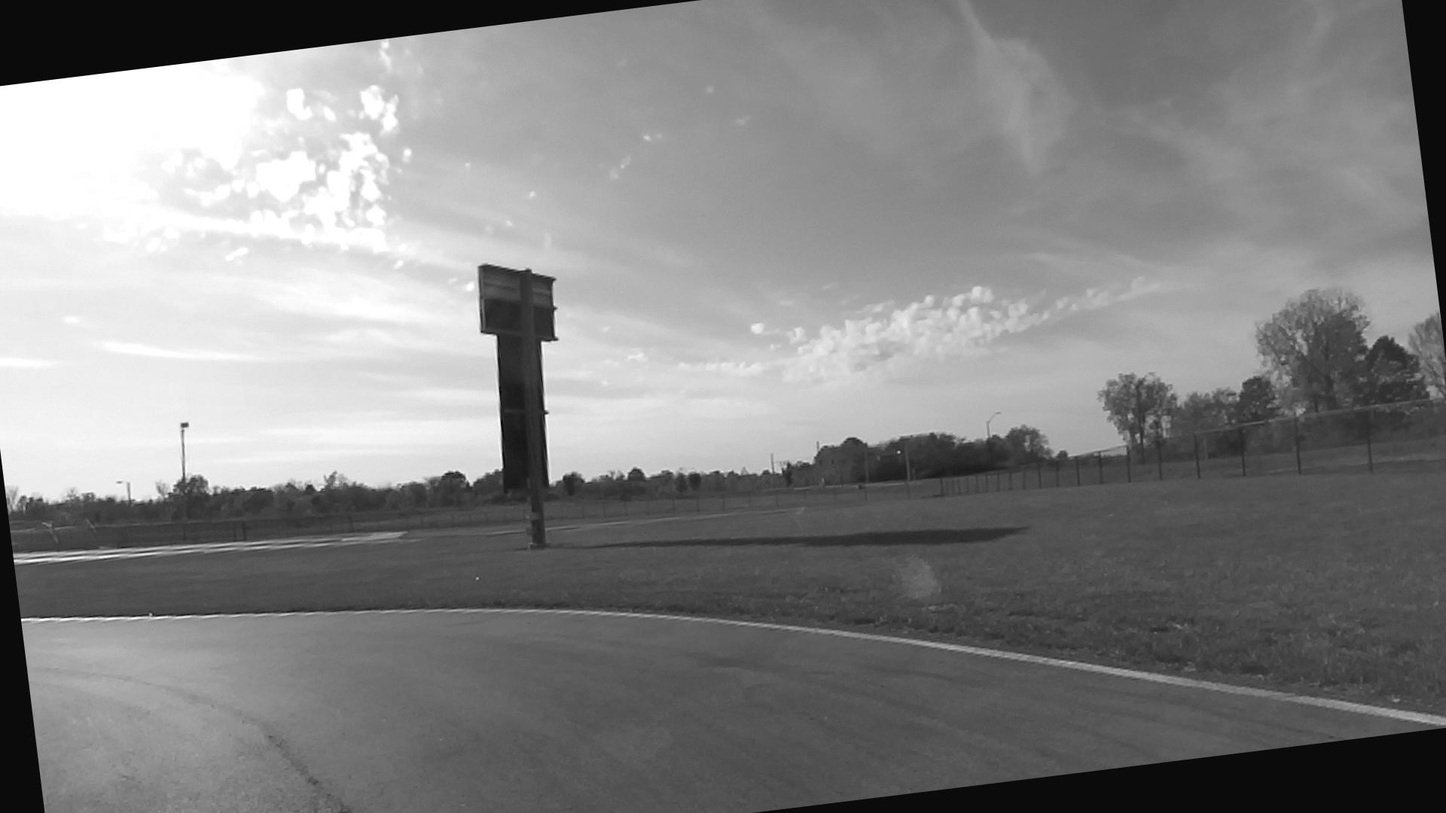white-line: (179, 607, 1446, 727)
